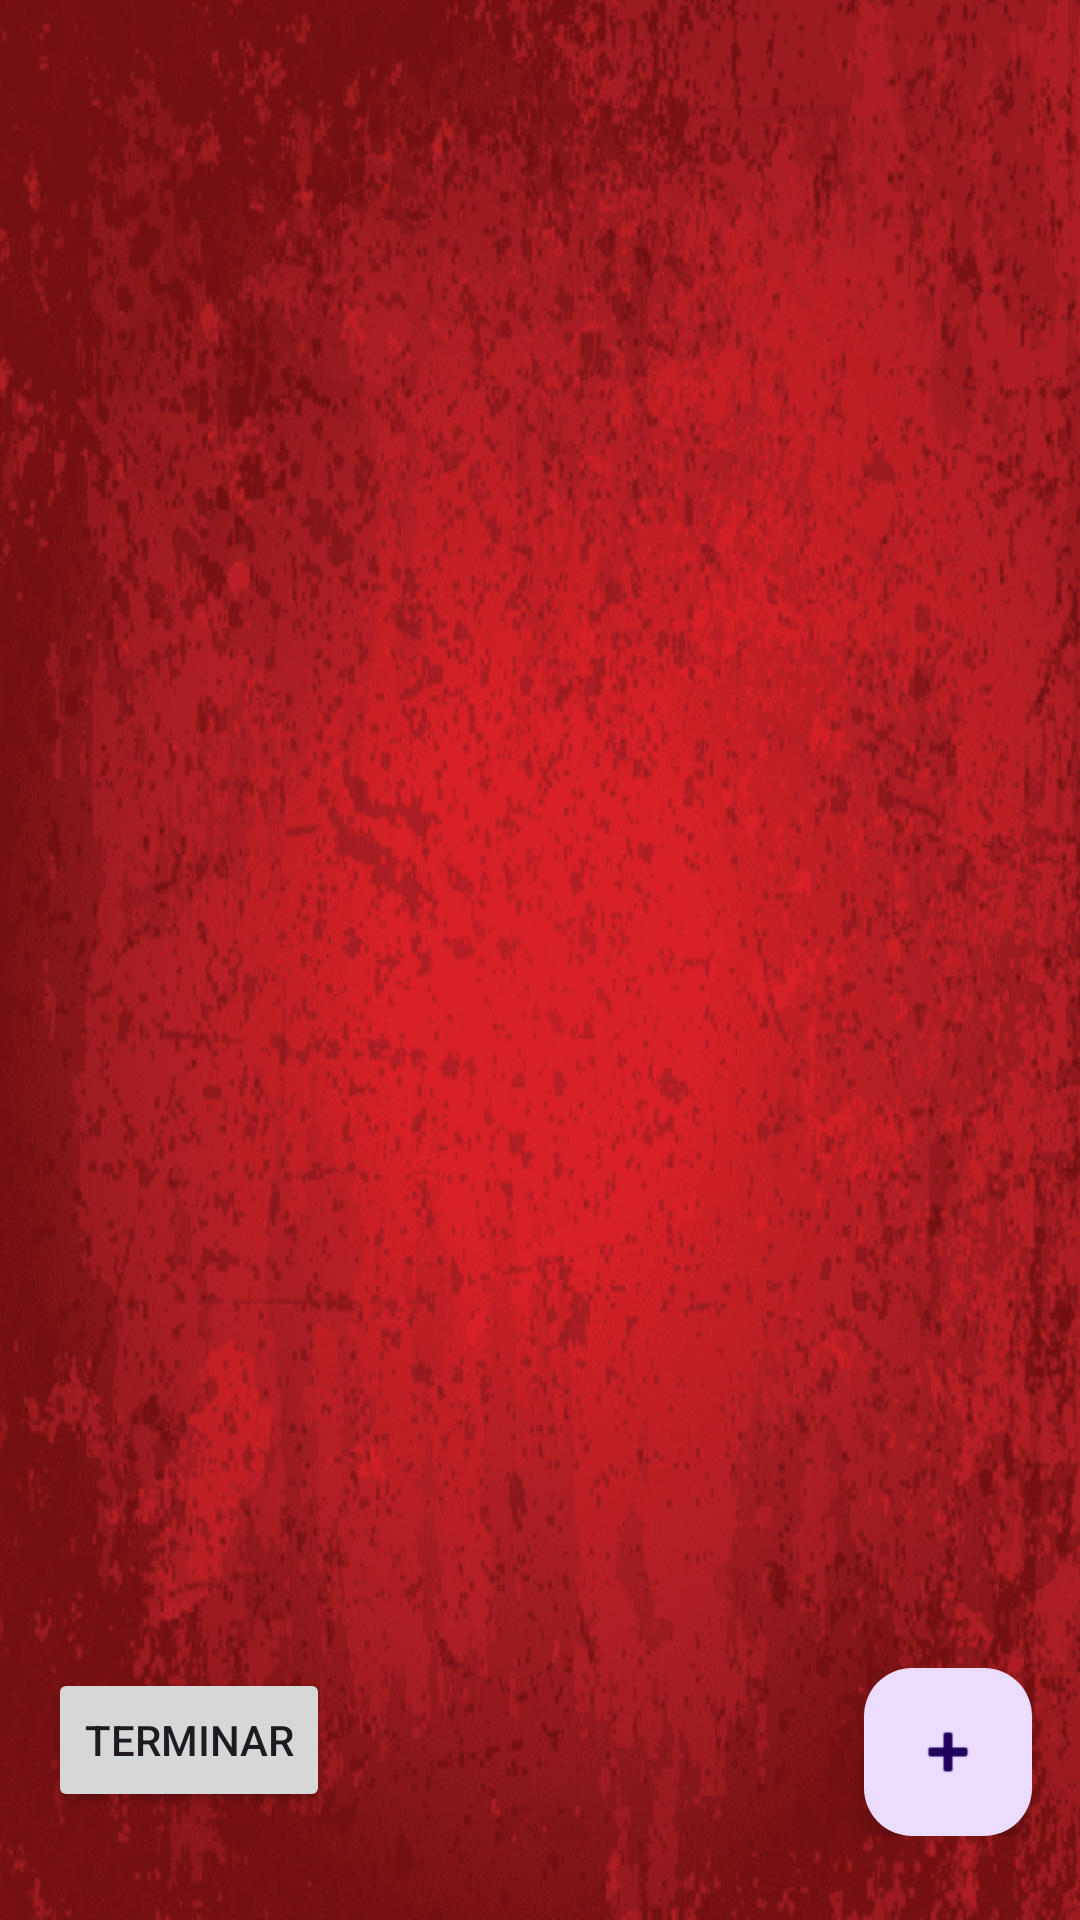

Icon click points for this 1080px x 1920px phone screenshot, format (x=x, y=y):
add: (x=948, y=1752)
